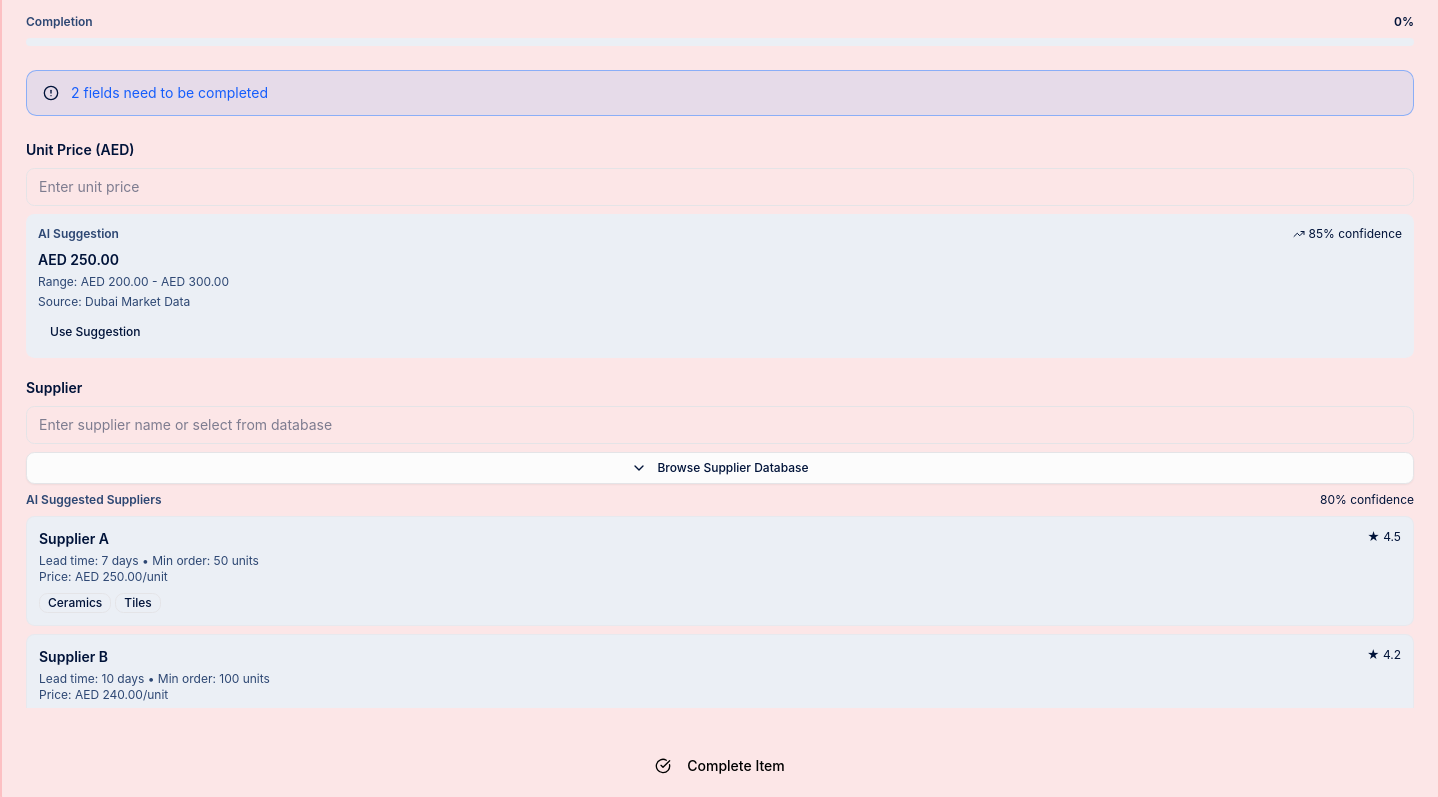
Test case: GapCompletionForm Component › Form Validation › should validate unit price field
(page scrolled)
Click the button "Complete Item": [720, 766] box [26,748,1414,784]
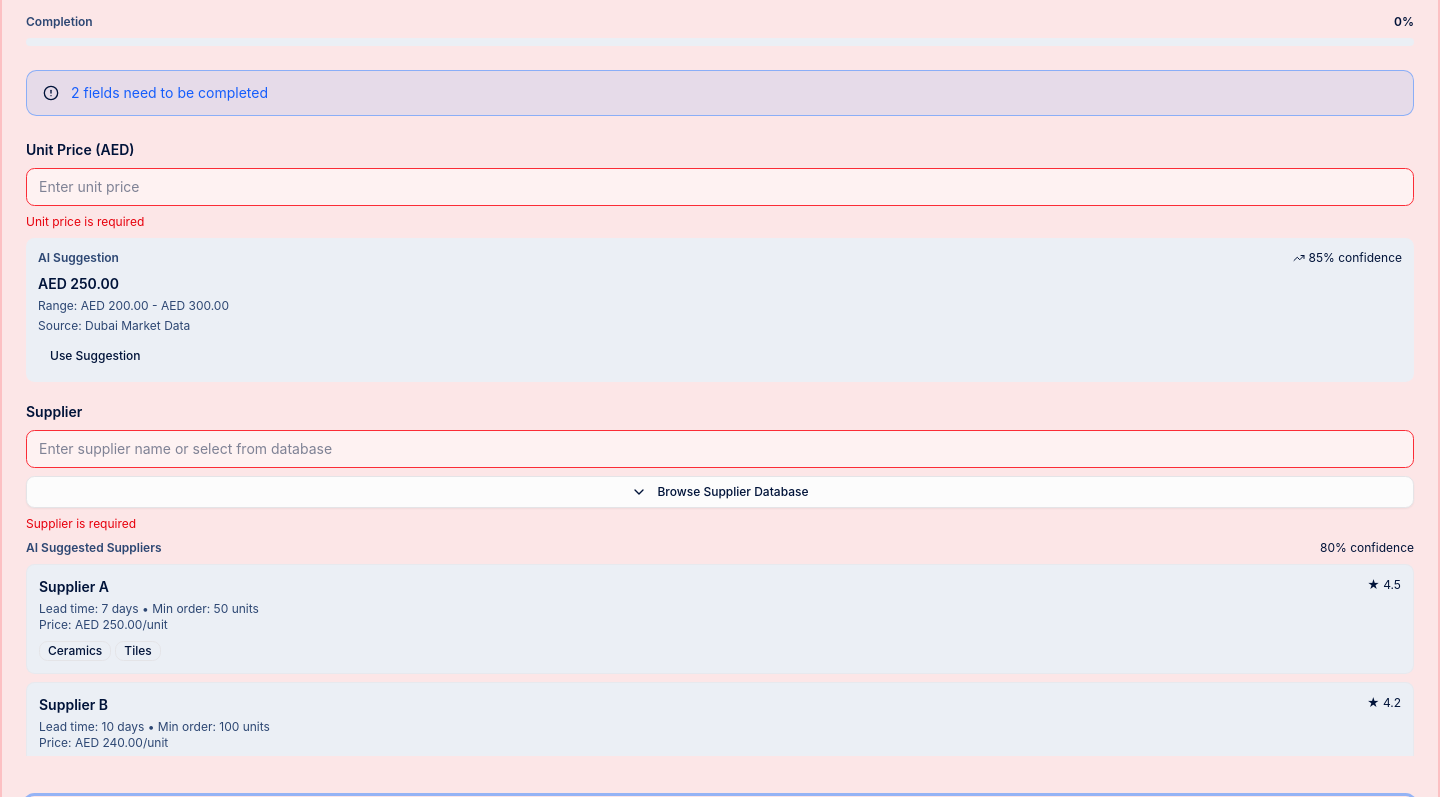
Now the text "Unit price is required" is shown, box [26,214,144,229]
